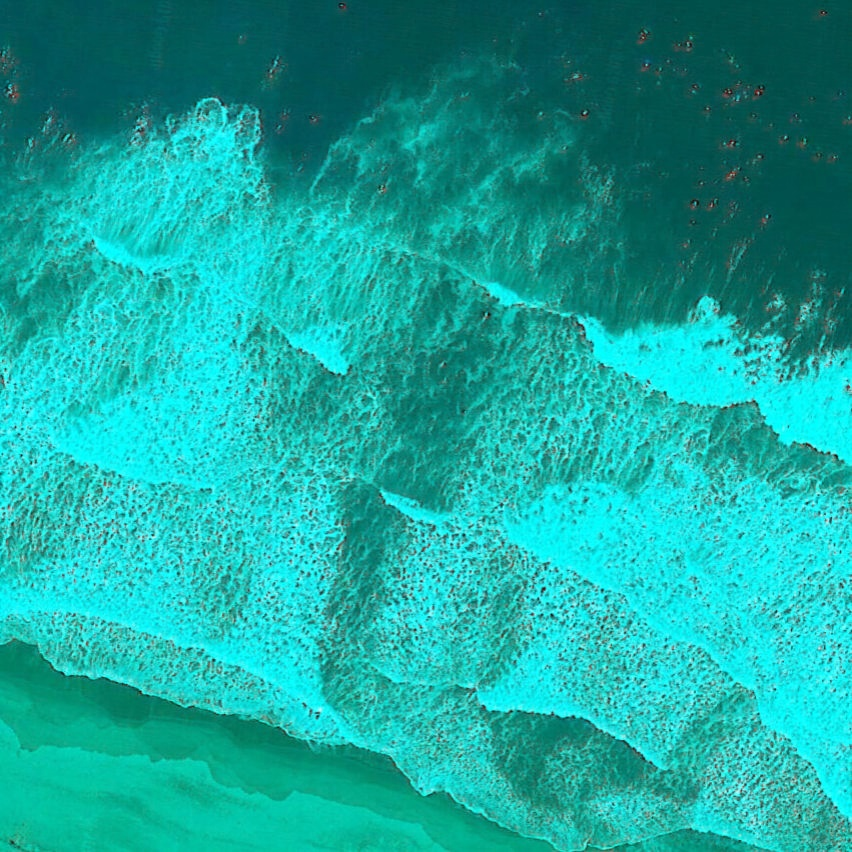rip_current: (278, 131, 587, 741)
